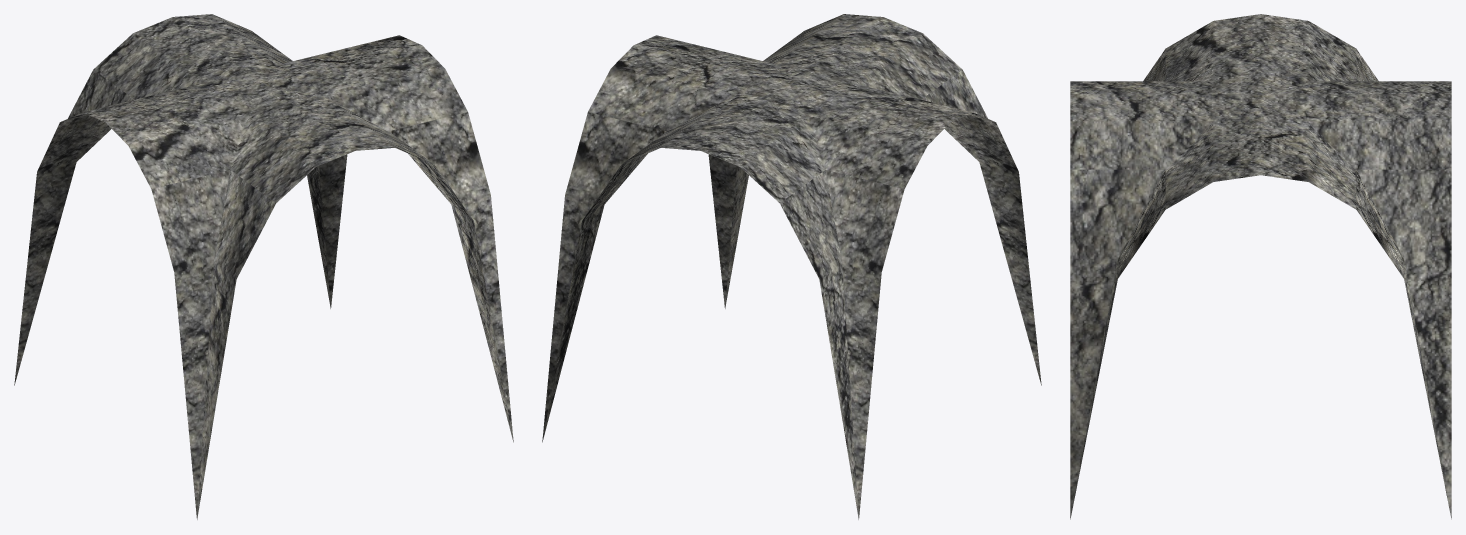
Rendered from Stone4a.obj.
3 views of the same model, side by side, from view 1: azimuth 30°, elevation 25°; view 2: azimuth 150°, elevation 25°; view 3: azimuth 270°, elevation 25° (orthographic). The views are drawn at different scales.
Parts seen in each view (by area): view 1: Grid_Grid.006_Grid_Grid.029; view 2: Grid_Grid.006_Grid_Grid.029; view 3: Grid_Grid.006_Grid_Grid.029.
Boxes of the visible parts, box(x1,y1,x2,y2) form: Grid_Grid.006_Grid_Grid.029: box(14, 14, 513, 519); Grid_Grid.006_Grid_Grid.029: box(542, 14, 1041, 519); Grid_Grid.006_Grid_Grid.029: box(1070, 14, 1451, 519).
Bounding box in the file's own units: 1 × 1 × 1.
